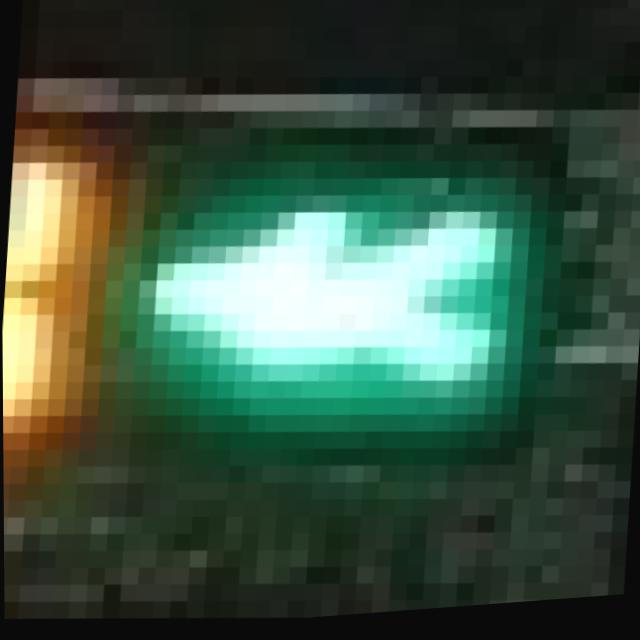green_light: (105, 122, 569, 532)
